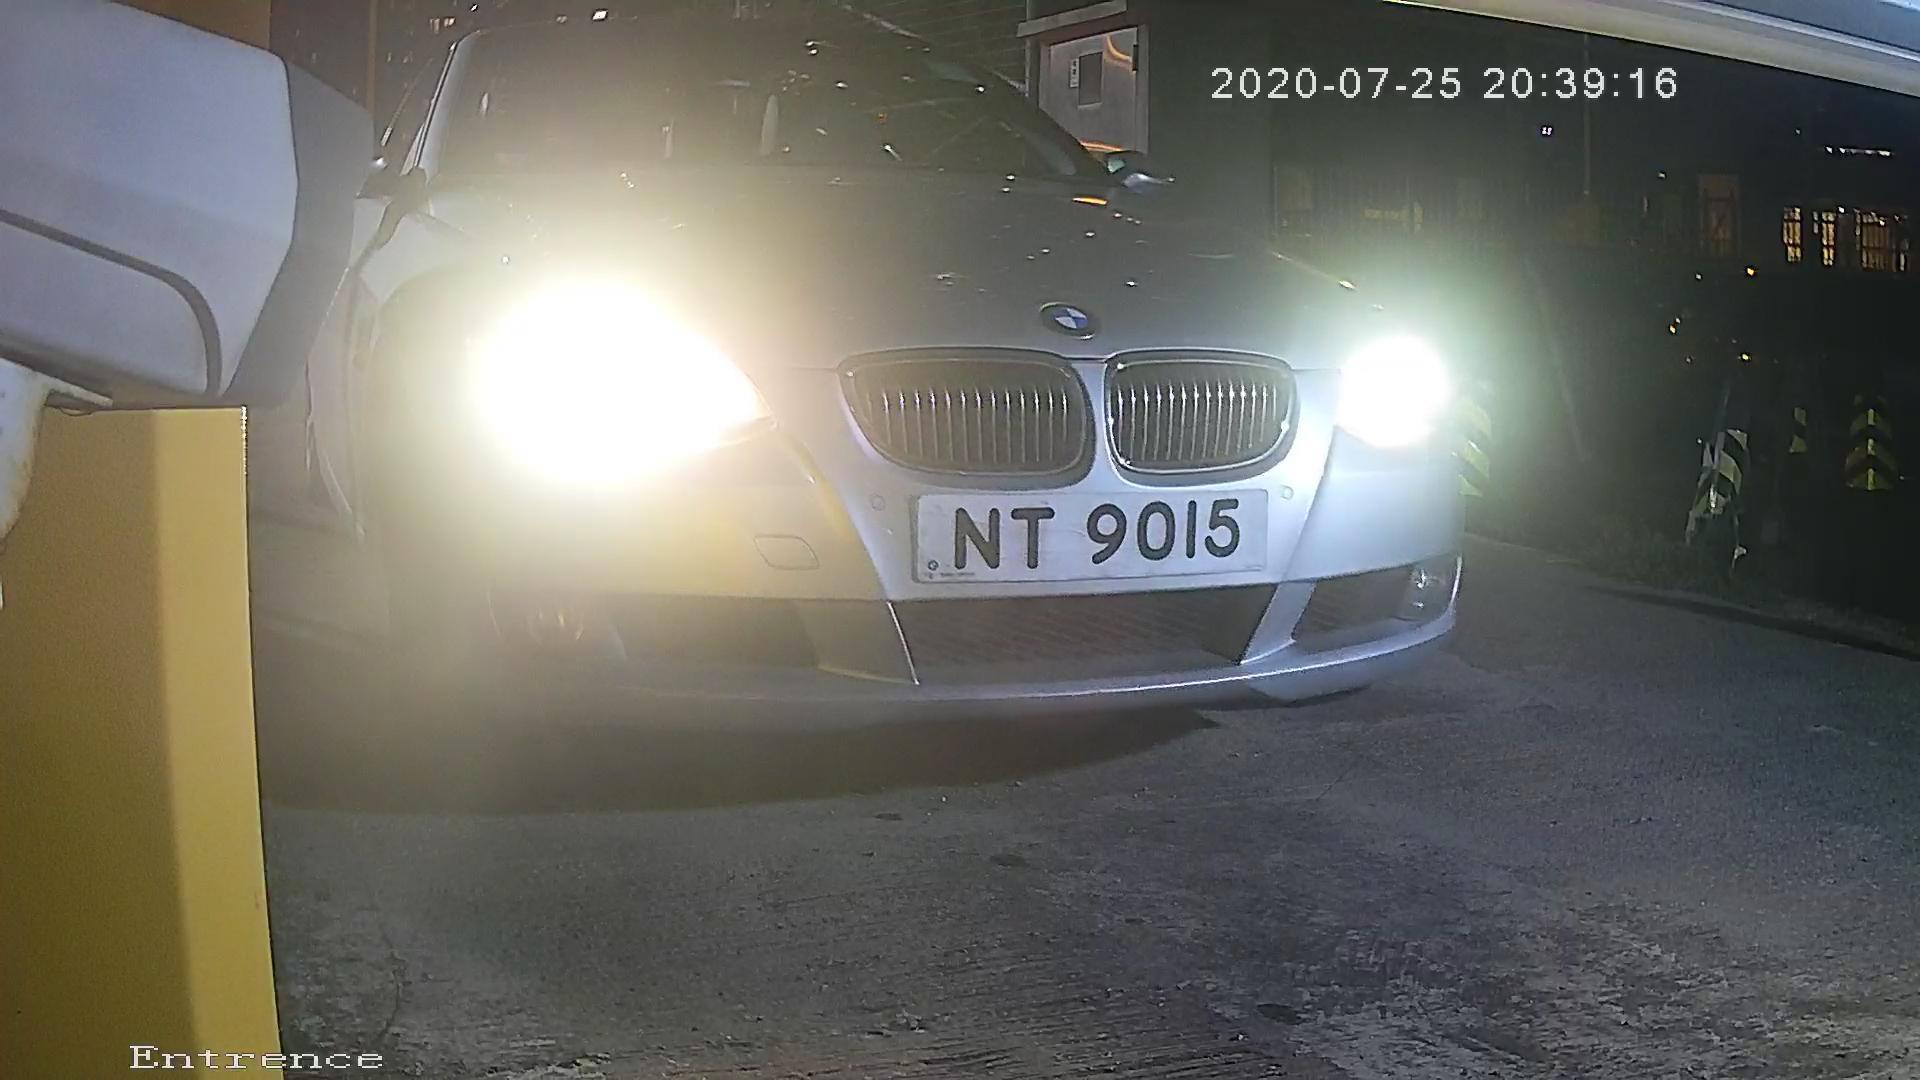privatecar: (287, 3, 1542, 781)
